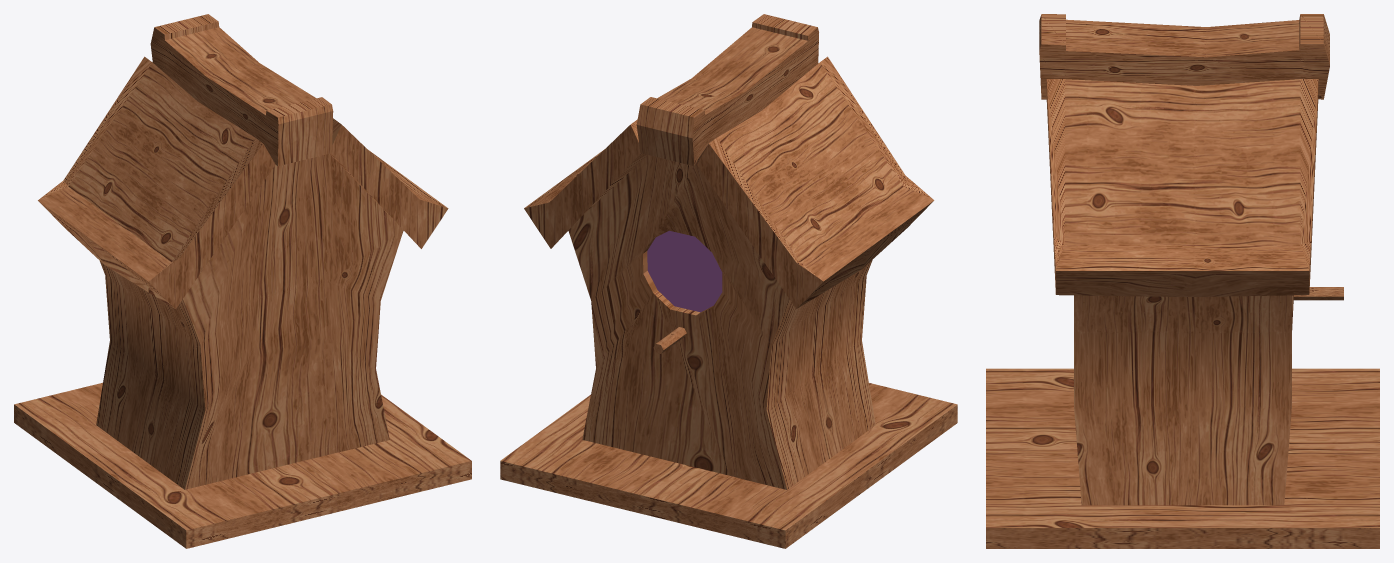
Rendered from vtacia skrinka.fbx.
The picture shows the model from 3 angles, left to right: view 1: azimuth 30°, elevation 25°; view 2: azimuth 150°, elevation 25°; view 3: azimuth 270°, elevation 25°; orthographic projection. The views are drawn at different scales.
Visible parts, largest first — view 1: pCube3; view 2: pCube3; view 3: pCube3.
Part boxes in pixels (x1,y1,x2,y2): pCube3: (14,14,471,548); pCube3: (500,14,957,548); pCube3: (986,14,1379,548).
Size of the model in its own units: 2.03 by 2.49 by 2.02.
Materials: 2 (1 with a texture image).
